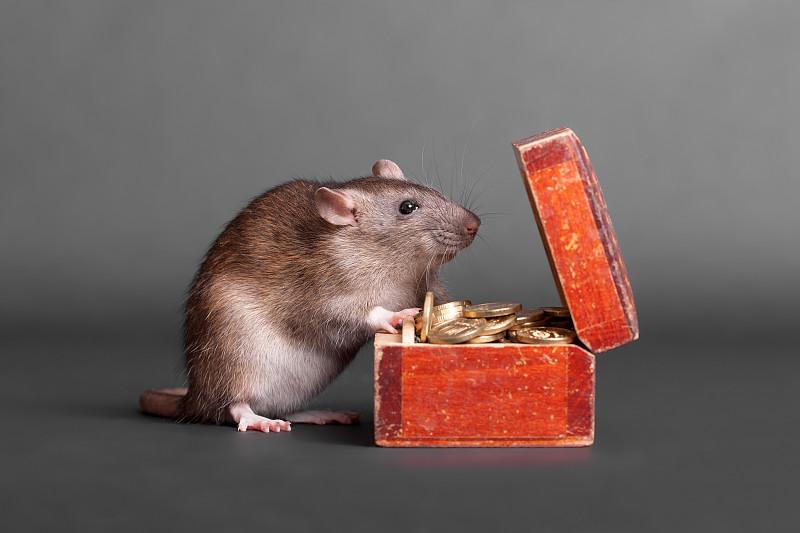rat: (160, 153, 486, 436)
